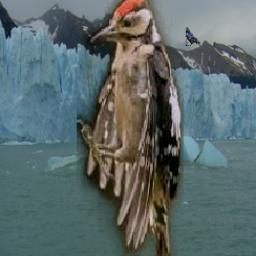Crow: (186, 28, 202, 47)
Woodpecker: (77, 0, 184, 256)
